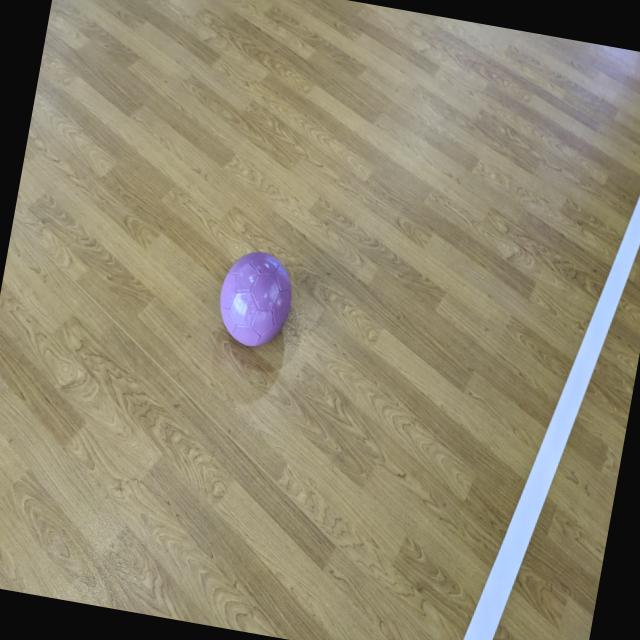purple_ball: (213, 244, 301, 350)
